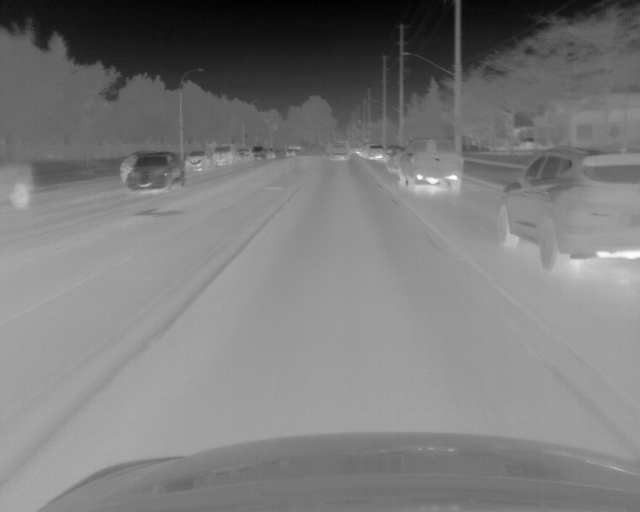car: (496, 147, 640, 273), (400, 139, 461, 193), (126, 152, 185, 192), (1, 156, 35, 210), (212, 145, 236, 166), (185, 151, 208, 171), (385, 150, 400, 171), (331, 143, 348, 160), (366, 144, 383, 160), (237, 148, 253, 162)
